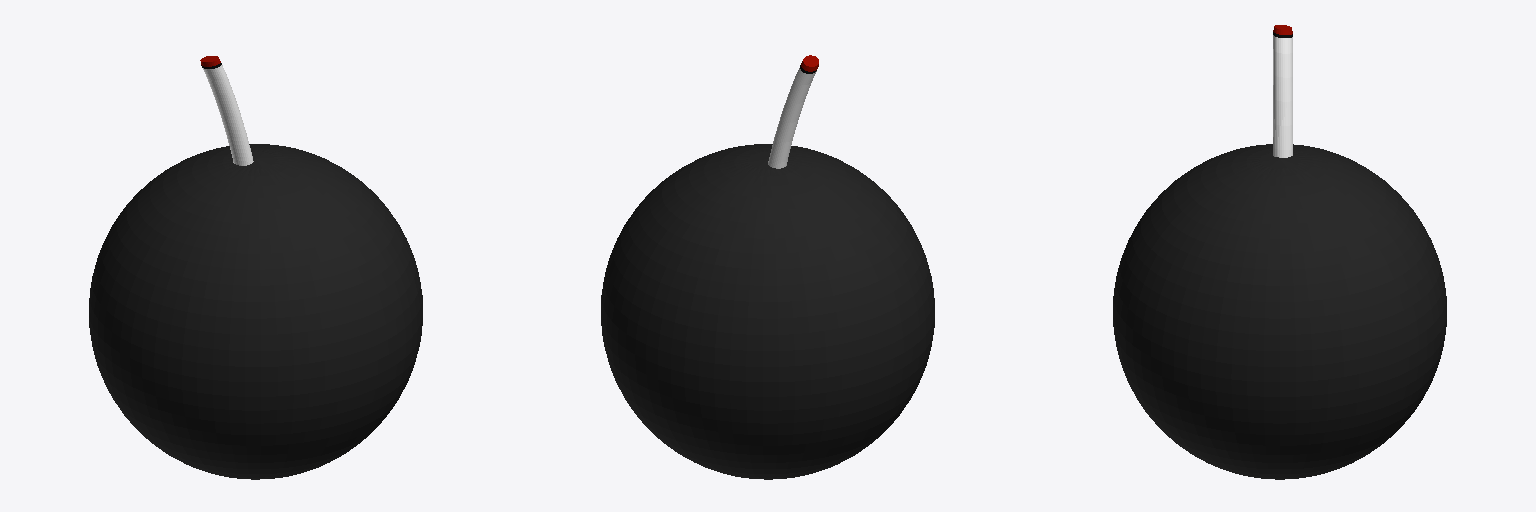
Rendered from bomb.obj.
The picture shows the model from 3 angles: view 1: azimuth 30°, elevation 25°; view 2: azimuth 150°, elevation 25°; view 3: azimuth 270°, elevation 25°; orthographic projection.
Visible parts, largest first — view 1: Sphere, Cylinder; view 2: Sphere, Cylinder; view 3: Sphere, Cylinder.
Boxes of the visible parts, <box> form: Sphere: <box>89,144,422,479</box>; Cylinder: <box>200,56,253,165</box>; Sphere: <box>601,144,934,479</box>; Cylinder: <box>768,55,818,168</box>; Sphere: <box>1113,144,1446,479</box>; Cylinder: <box>1273,25,1292,157</box>.
Size of the model in its own units: 0.5917 by 0.8141 by 0.5917.